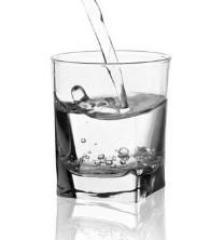glass: (51, 46, 170, 212)
